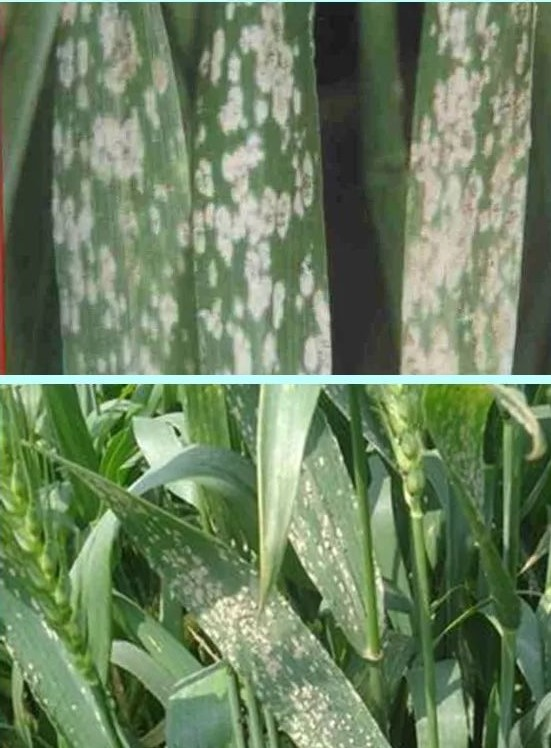Powdery Mildew: (189, 36, 359, 360), (170, 559, 389, 743)
